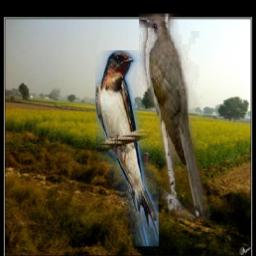Cuckoo: (139, 14, 210, 220)
Swallow: (95, 51, 159, 247)
